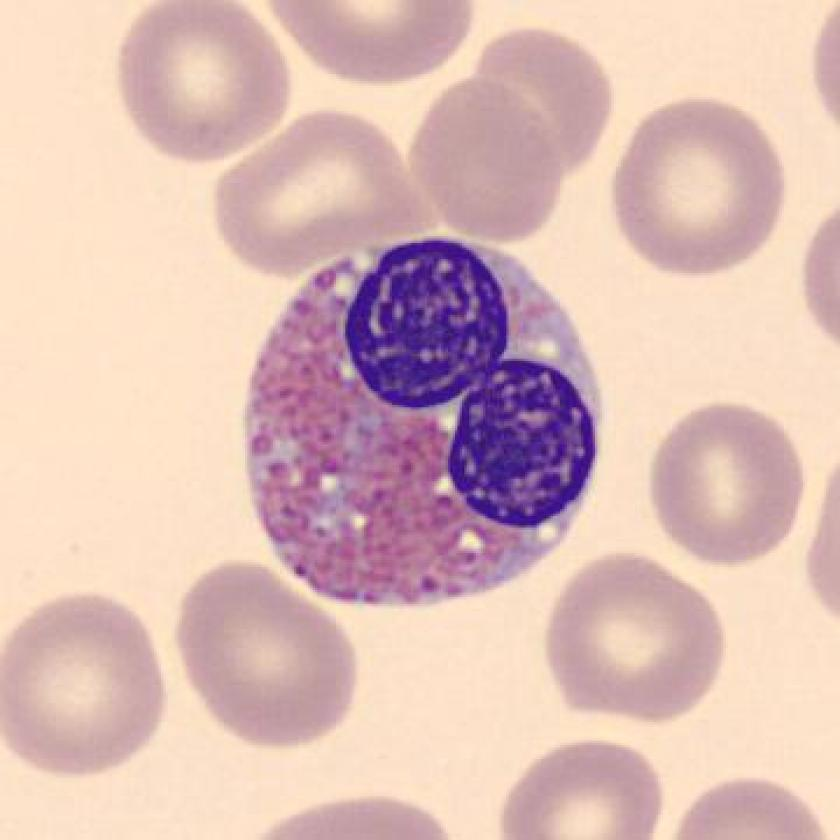eosinophil: (232, 226, 619, 621)
